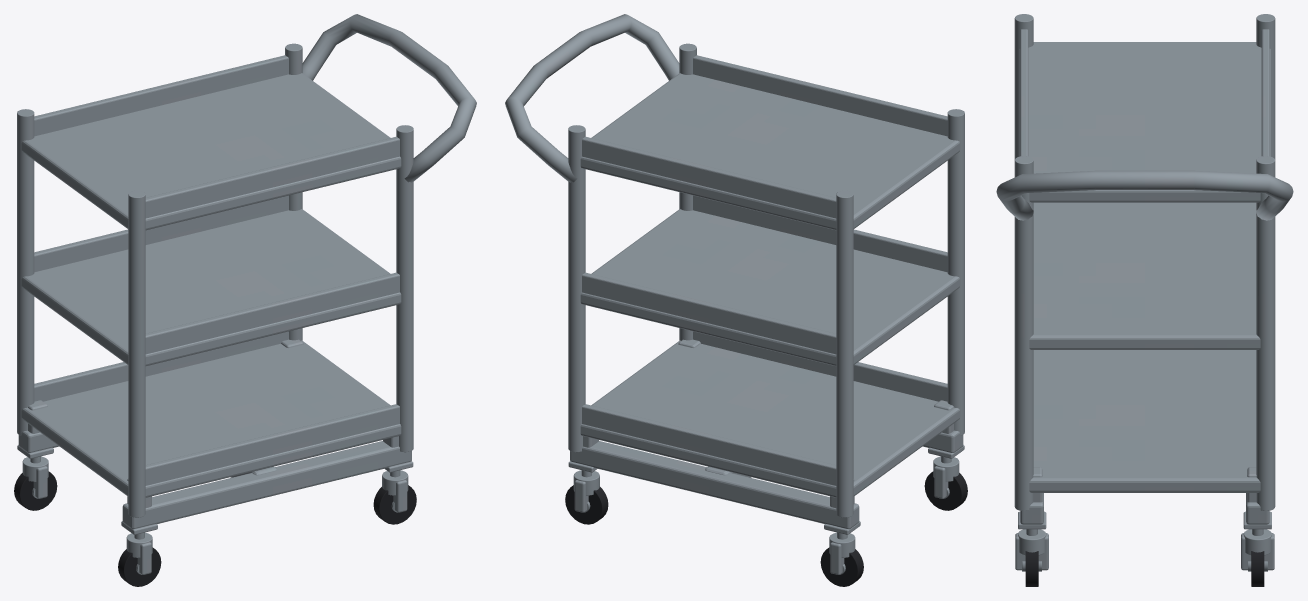
File: medical_cart.glb
The picture shows the model from 3 angles, left to right: view 1: azimuth 30°, elevation 25°; view 2: azimuth 150°, elevation 25°; view 3: azimuth 270°, elevation 25°; orthographic projection. The views are drawn at different scales.
Visible parts, largest first — view 1: Caster base crossbar, Cast polyurethane wheel; view 2: Caster base crossbar, Cast polyurethane wheel; view 3: Caster base crossbar, Cast polyurethane wheel.
Part boxes in pixels (left/top/right/bottom): Caster base crossbar: left=17, top=14, right=476, bottom=574; Cast polyurethane wheel: left=14, top=471, right=416, bottom=586; Caster base crossbar: left=505, top=14, right=964, bottom=574; Cast polyurethane wheel: left=565, top=471, right=967, bottom=586; Caster base crossbar: left=996, top=14, right=1293, bottom=571; Cast polyurethane wheel: left=1025, top=551, right=1264, bottom=586.
Bounding box in the file's own units: 0.8553 × 0.9531 × 0.5659.
Materials: 2 (2 with a texture image).
